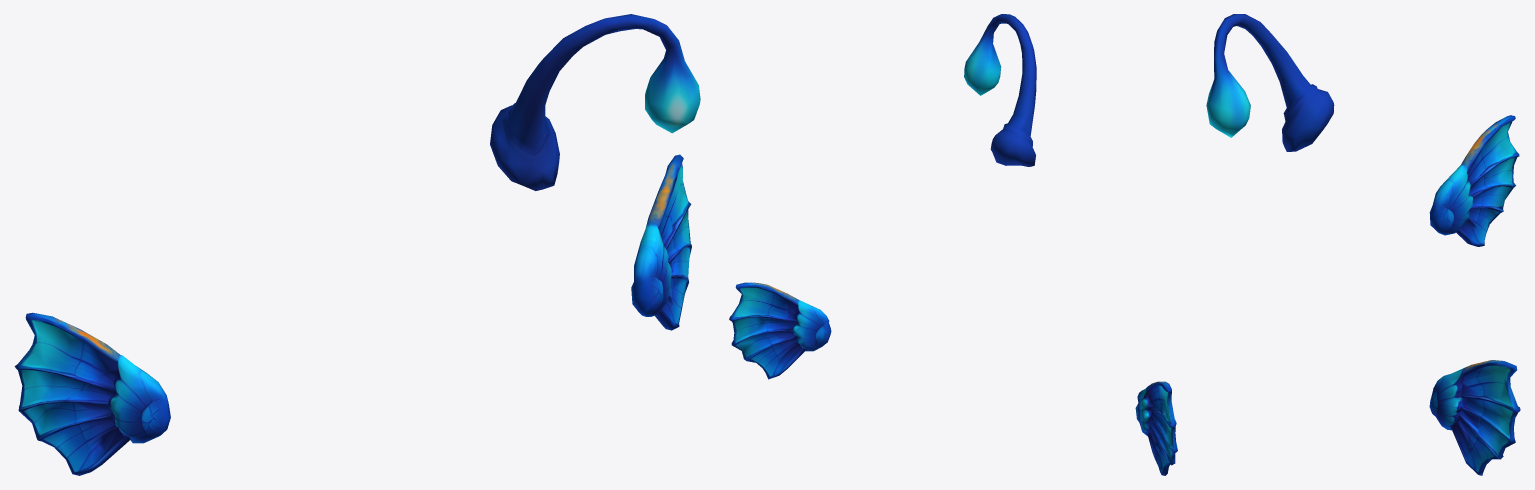
File: DeepSeaLeviathanWear.fbx
3 renders of one model, left to right at view 1: azimuth 30°, elevation 25°; view 2: azimuth 150°, elevation 25°; view 3: azimuth 270°, elevation 25°, orthographic. The views are drawn at different scales.
Visible parts, largest first — view 1: FinR, Lure, FinL; view 2: FinL, Lure, FinR; view 3: Lure, FinL, FinR.
Boxes of the visible parts, x1,y1,x2,y2 form: FinR: [14, 312, 170, 475]; Lure: [490, 14, 700, 190]; FinL: [631, 154, 691, 330]; FinL: [729, 282, 831, 379]; Lure: [964, 14, 1036, 166]; FinR: [1135, 381, 1177, 475]; Lure: [1206, 14, 1334, 151]; FinL: [1429, 360, 1520, 475]; FinR: [1429, 115, 1519, 246].
Size of the model in its own units: 1.38 by 0.9445 by 0.7102.
Materials: 1 (1 with a texture image).
